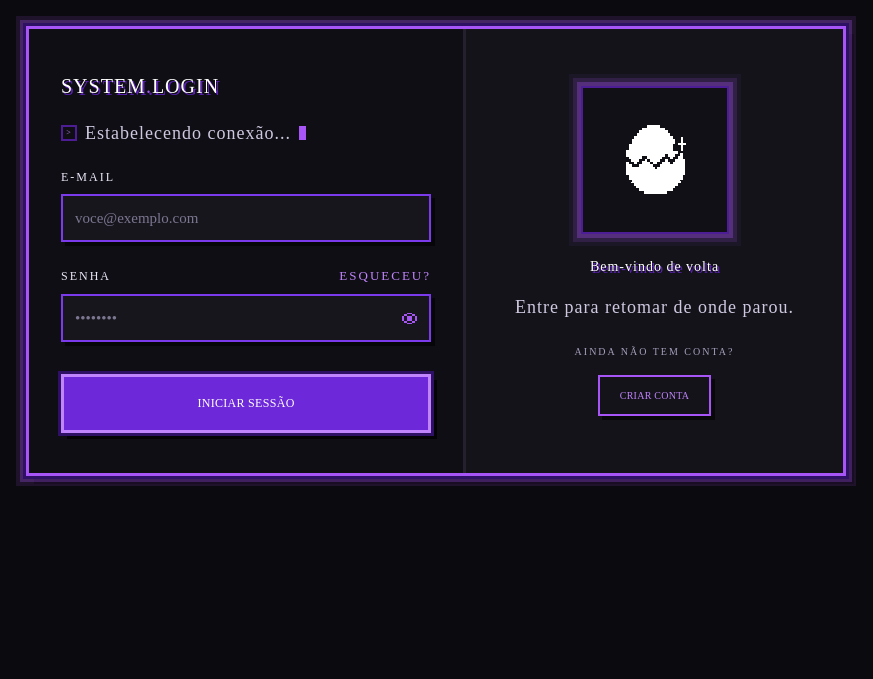
Test case: PainelLogin › credencial errada não mexe no painel
In the field labelled "E-MAIL": (246, 218) [75,196,417,240], type "pendente@exemplo.com"
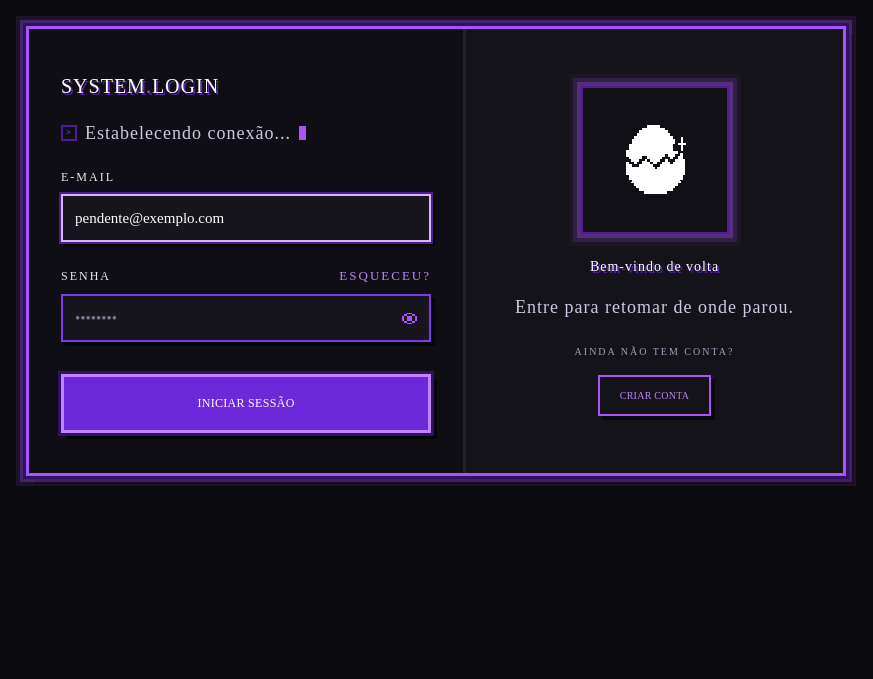
In the password field labelled "SENHA": (234, 318) [75,296,394,340], type "trilha-de-python-8"
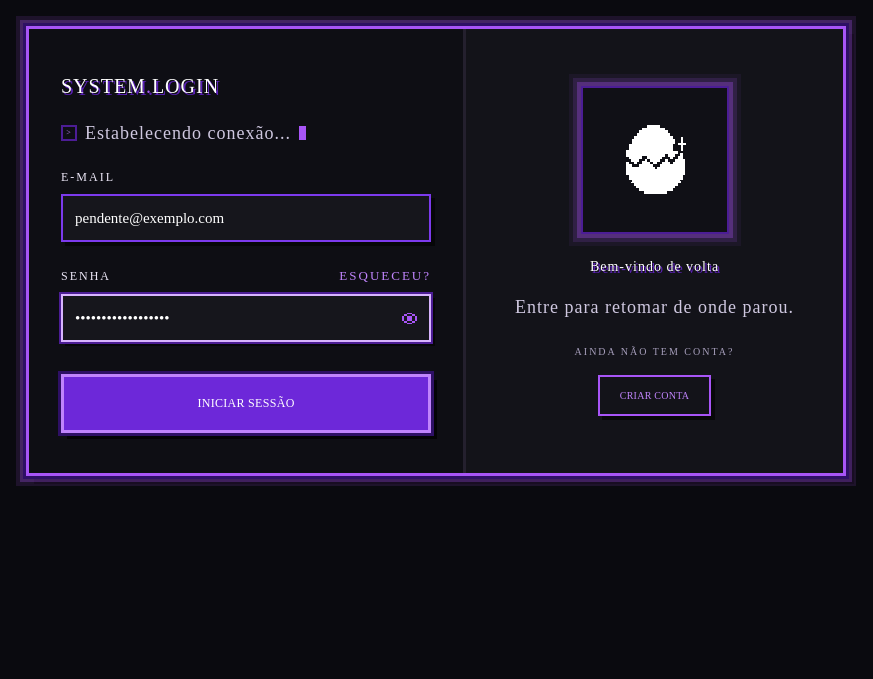
Click the button "INICIAR SESSÃO": (246, 404) [61,374,431,433]
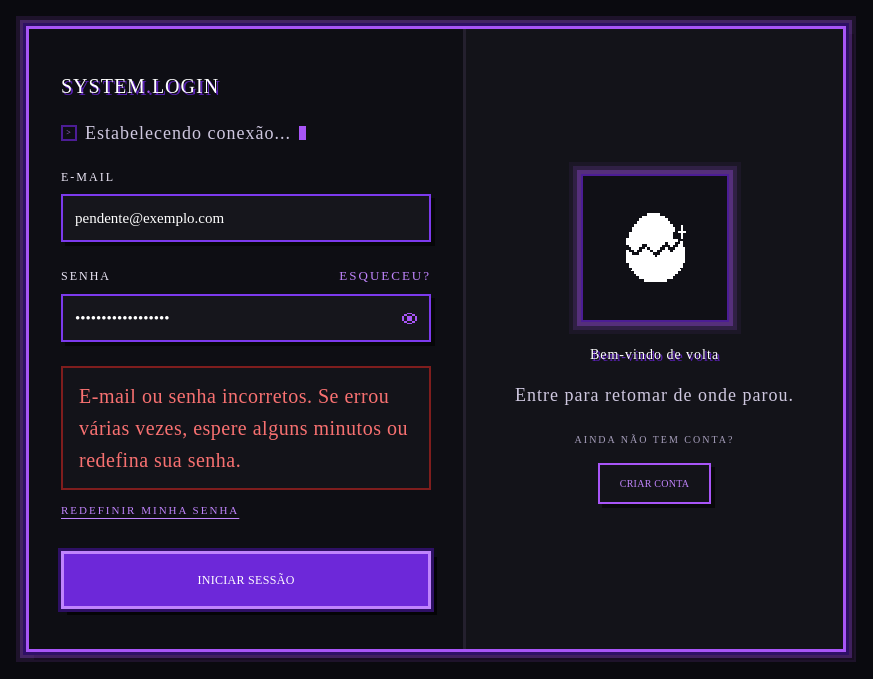
Expected: the heading "Bem-vindo de volta" is shown, [590,347,719,362]
Now the text "E-mail ou senha incorretos. Se errou várias vezes, espere alguns minutos ou redefina sua senha." is shown, box [79,385,408,471]
